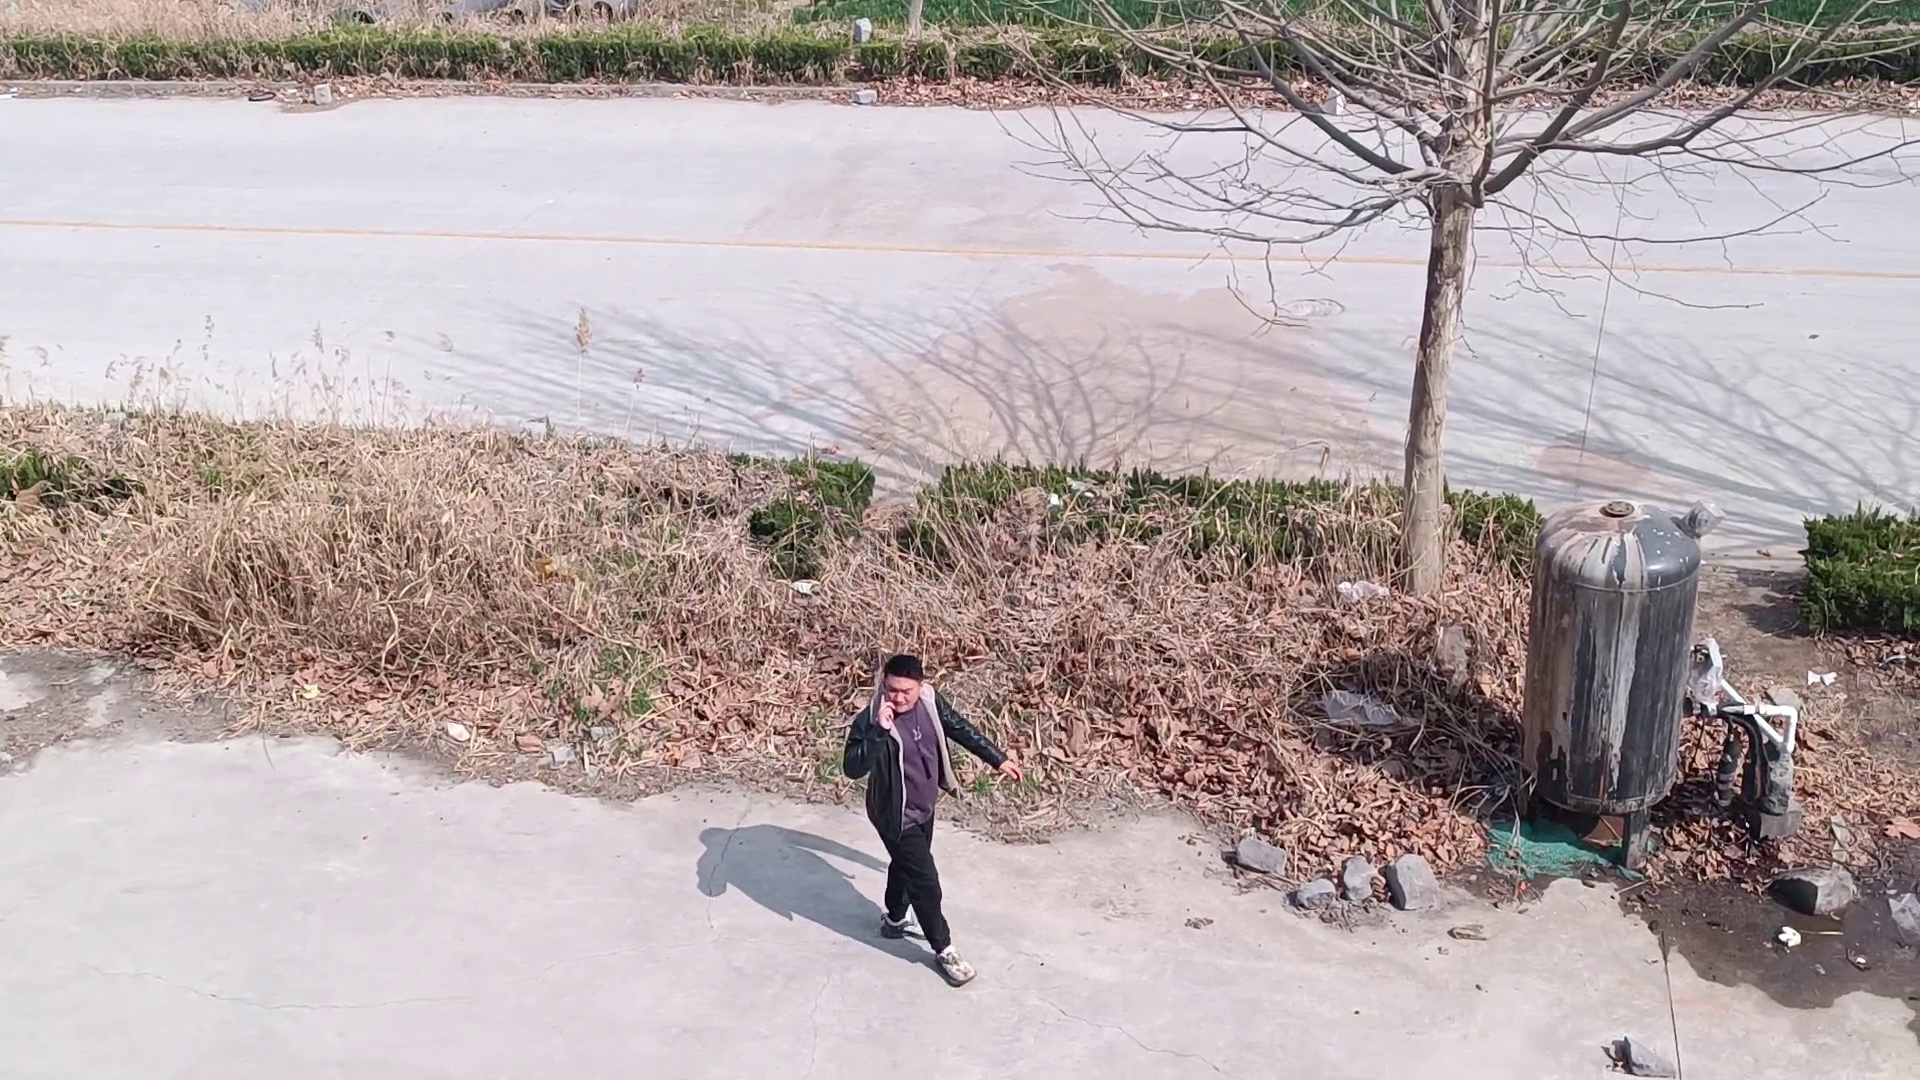phone: (876, 657, 928, 720)
